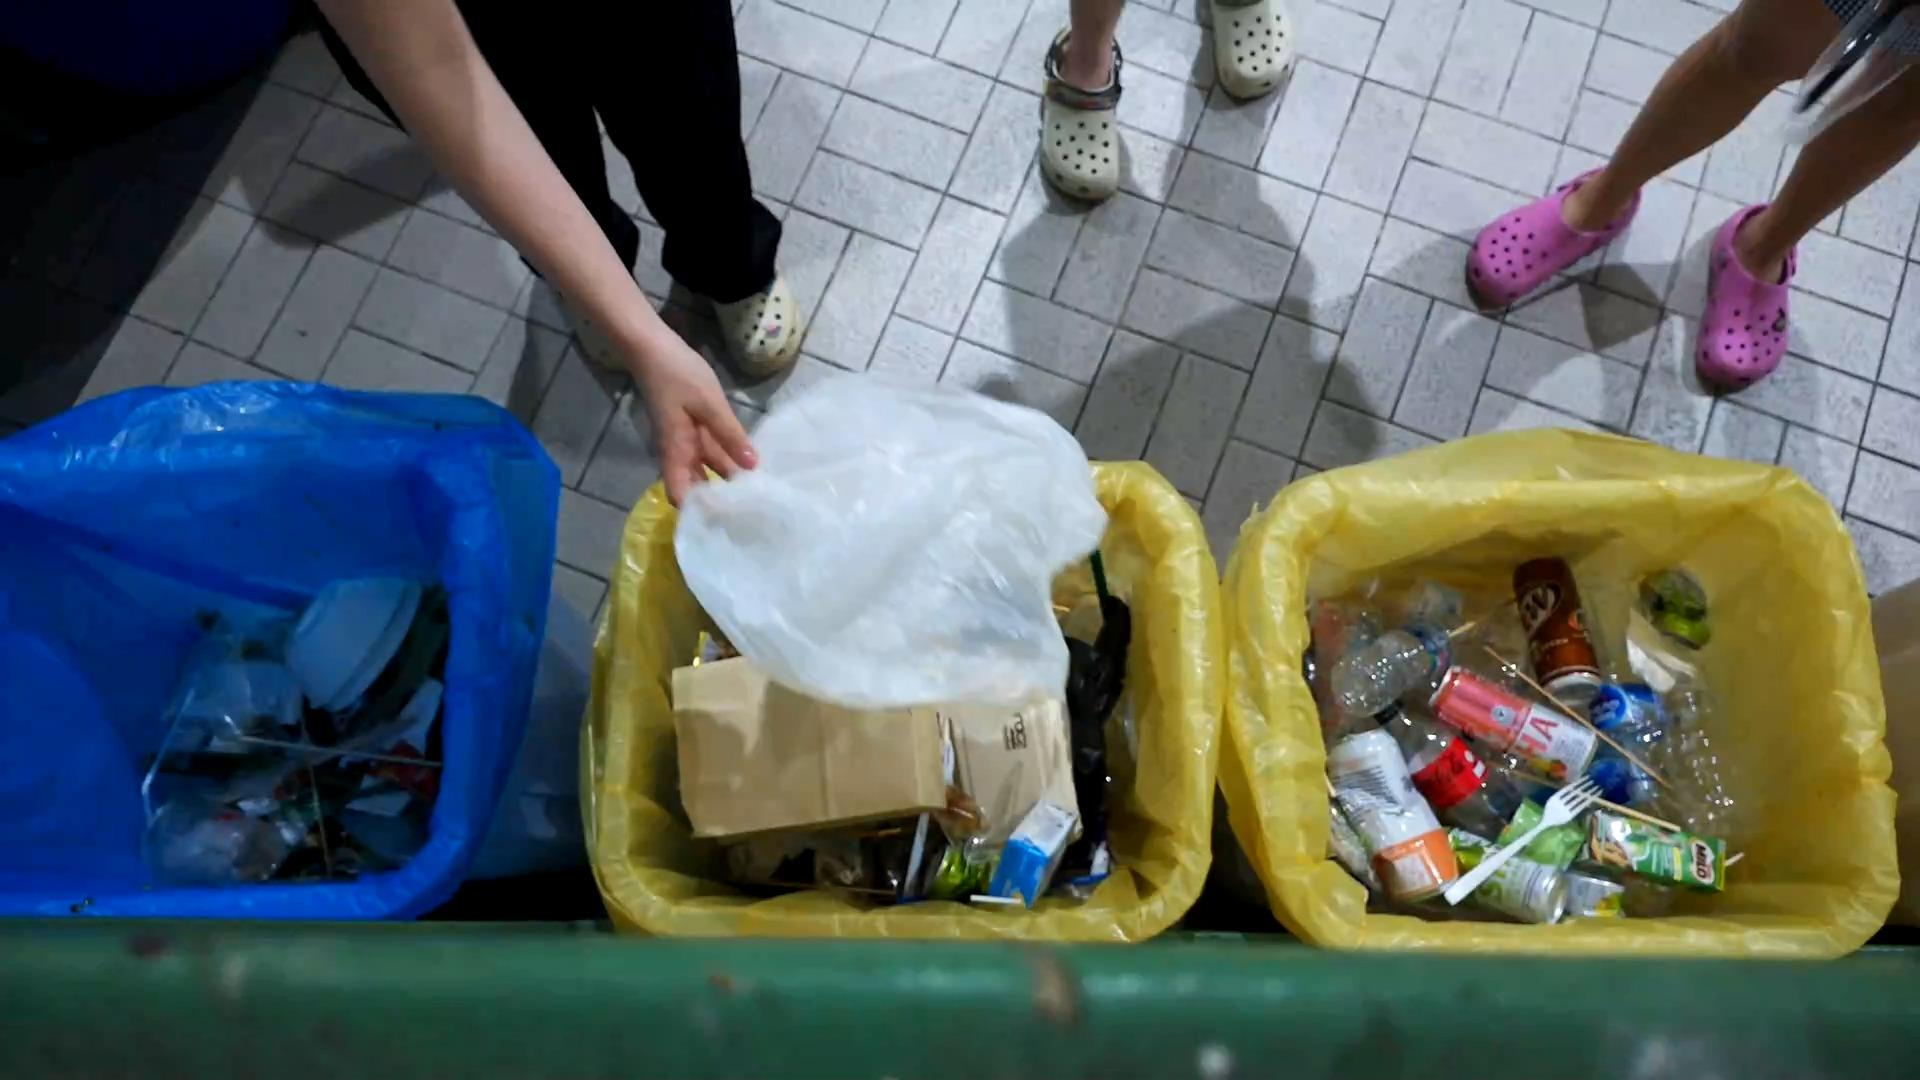can: (1325, 721, 1478, 910), (1425, 658, 1607, 790), (1509, 550, 1602, 715), (1449, 825, 1571, 926), (1629, 560, 1724, 654), (918, 835, 1006, 903), (1557, 862, 1631, 919)
food container: (277, 560, 415, 712)
milk carton: (1569, 802, 1750, 898), (968, 796, 1080, 907)
paper bag: (662, 642, 952, 848)
plastic bag: (654, 348, 1117, 719)
plastic bottle: (1369, 695, 1528, 847), (1655, 662, 1767, 857), (1327, 607, 1481, 721)
plastic cutlery: (1443, 770, 1610, 909), (270, 775, 434, 827)
snack packaging: (360, 735, 442, 804)
sticks: (1484, 644, 1676, 793), (1486, 758, 1684, 835), (231, 731, 443, 771), (299, 723, 340, 878), (1443, 593, 1518, 646)
straw: (138, 684, 200, 800)
tissue paper: (1621, 603, 1705, 695)
